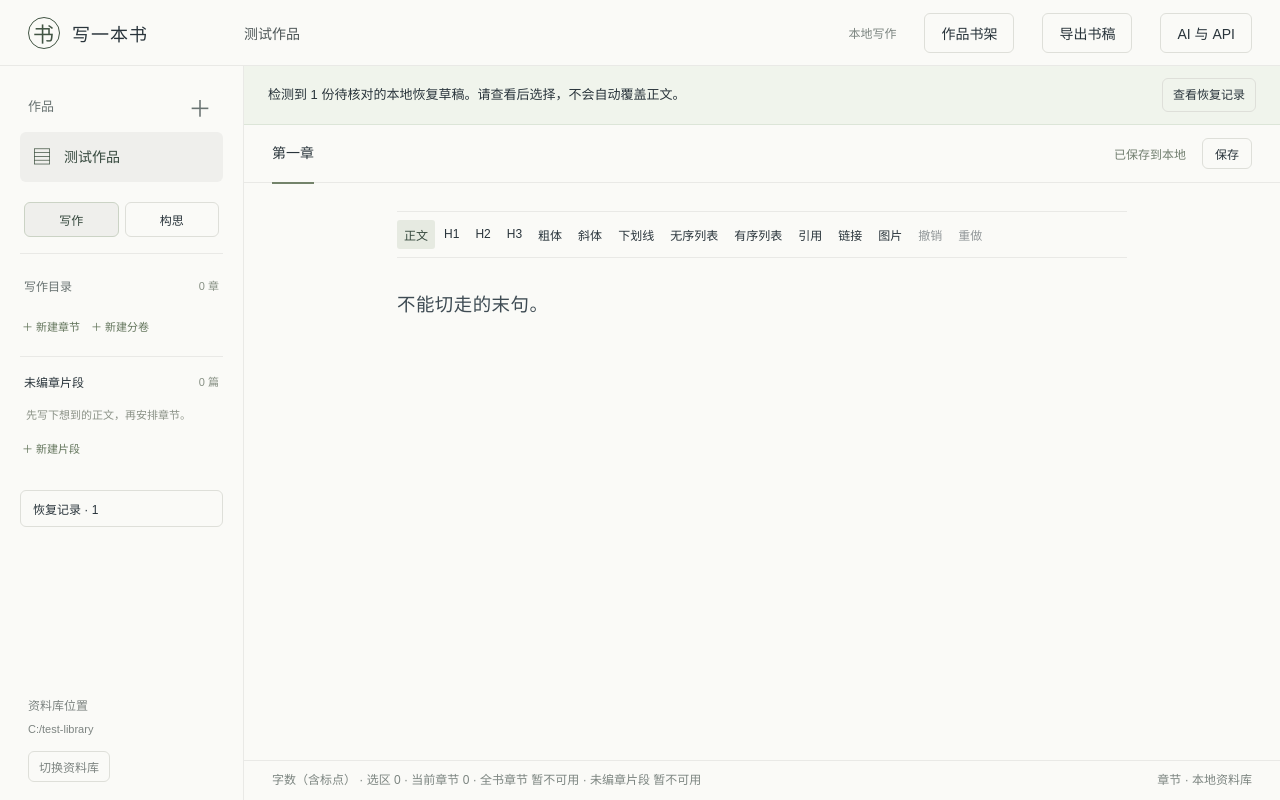
Scenario: keeps the current editor when its full recovery checkpoint cannot be retained
The width and height of the screenshot is (1280, 800).
(page scrolled)
Clear the field with id "chapter-body": [473, 305] box [397, 295, 548, 315]
Wait 20 ms
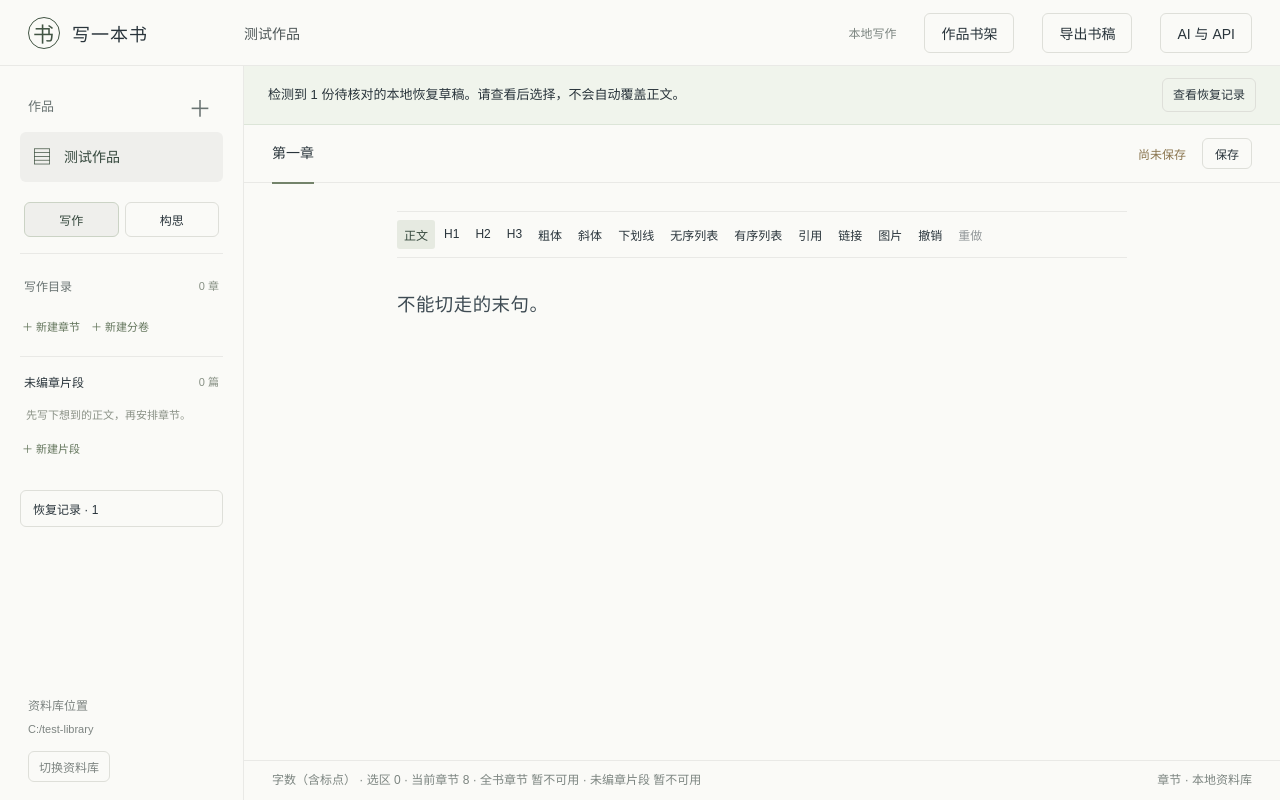
Click the button with class "recovery-sidebar-entry": [122, 508] box [20, 490, 223, 527]
(page scrolled)
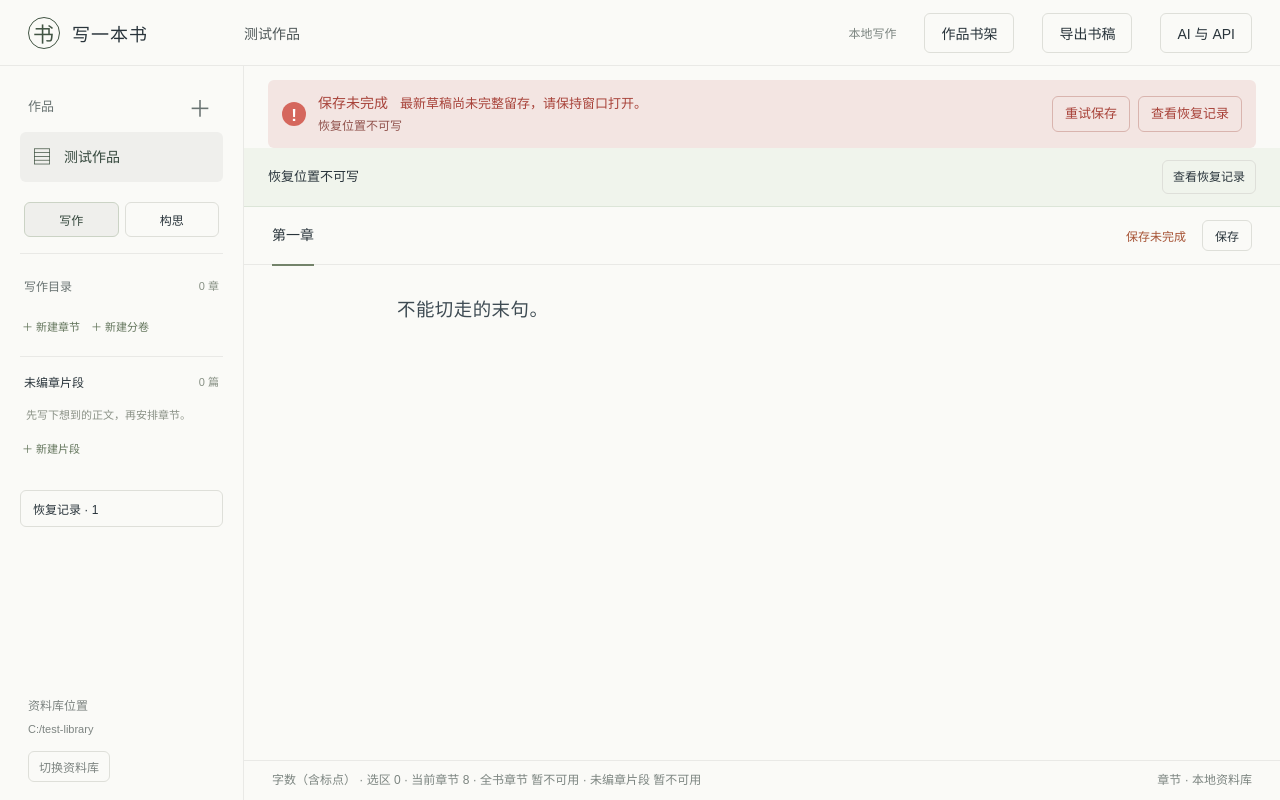
Check: the text "恢复位置不可写" is shown, box [318, 119, 402, 133]
